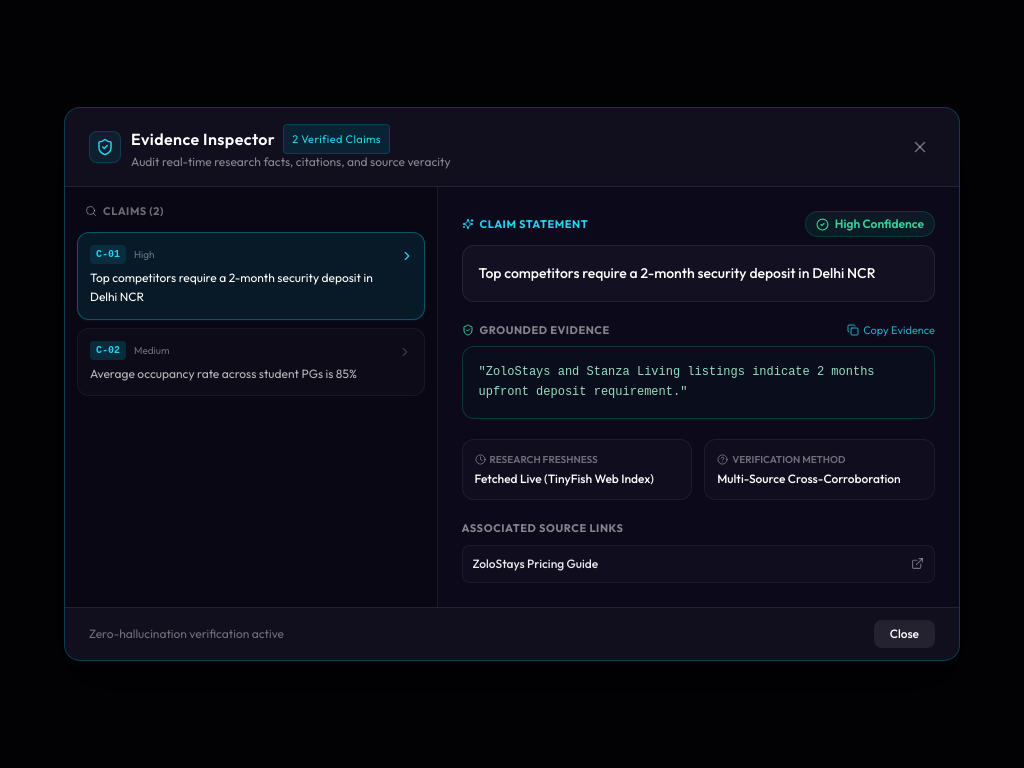
Test: EvidenceInspector Component › allows clicking between different claims to inspect individual evidence
Click the text "Average occupancy rate across student PGs is 85%": (240, 373) [90, 364, 390, 383]
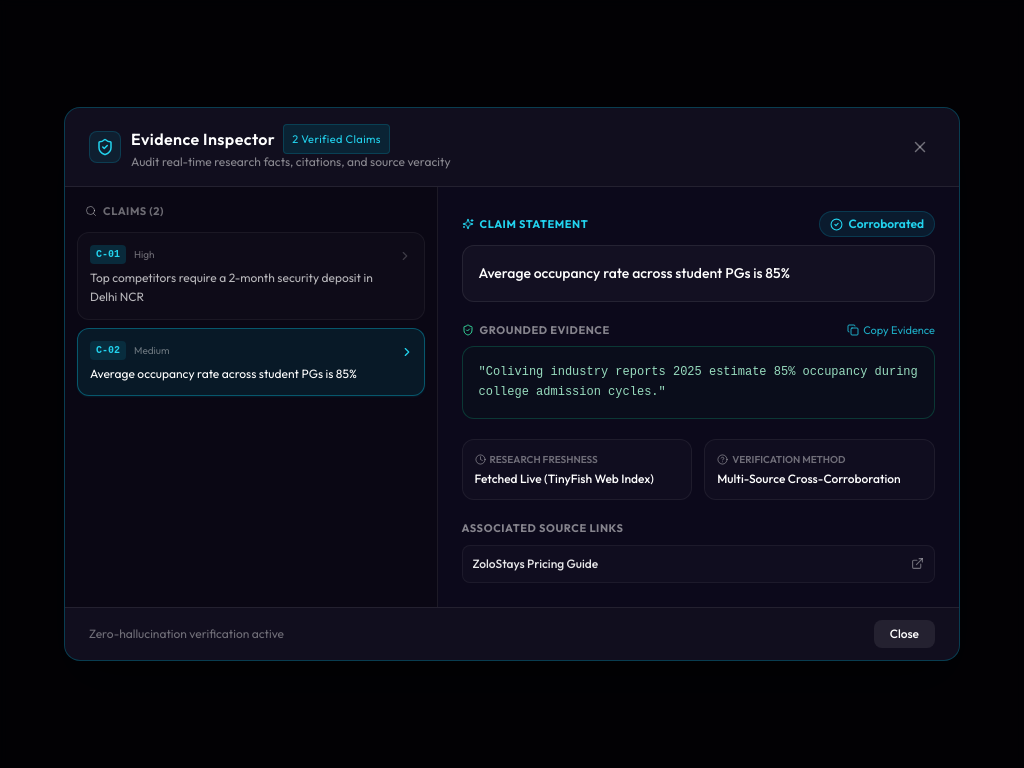
Result: the text "Coliving industry reports 2025 estimate 85% occupancy" is shown at [478, 365, 918, 399]
Result: the text "Corroborated" is shown at [819, 211, 935, 237]
